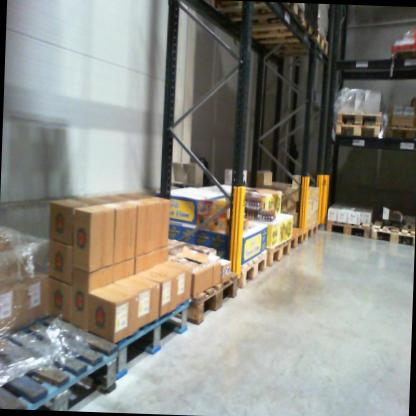pallet: (0, 319, 125, 411), (91, 292, 196, 391), (206, 5, 320, 43), (200, 1, 308, 33), (187, 272, 242, 334), (253, 30, 329, 63), (233, 247, 270, 296), (371, 210, 416, 249), (322, 213, 378, 242), (334, 106, 384, 127), (332, 121, 382, 142), (265, 236, 292, 269), (385, 121, 416, 144), (390, 47, 416, 66), (290, 224, 307, 252), (303, 221, 320, 242)
